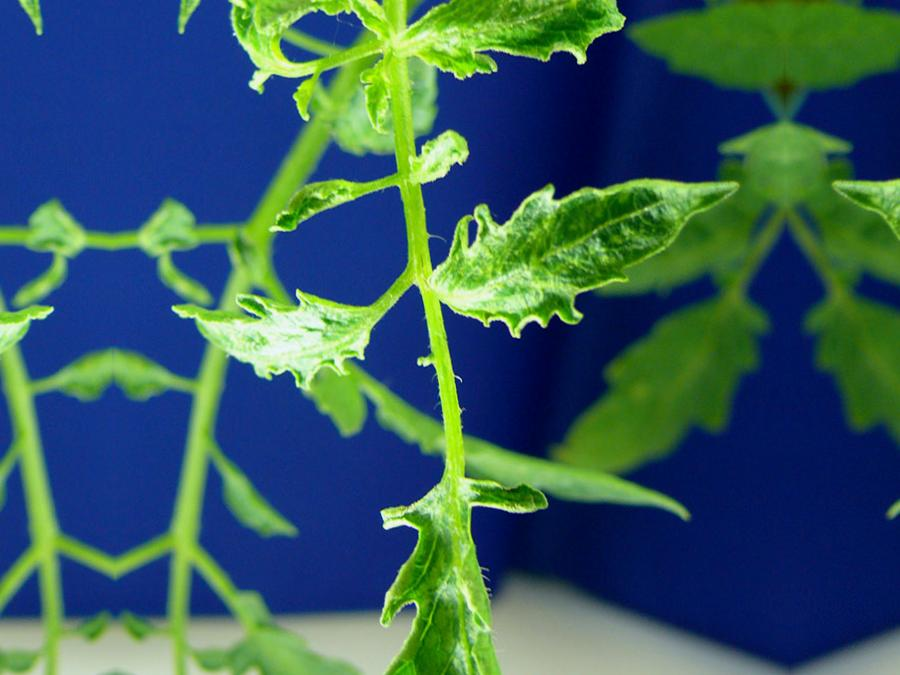Tomato leaf mosaic virus: (426, 145, 750, 356), (381, 448, 541, 675), (400, 0, 645, 115), (162, 277, 383, 400)
